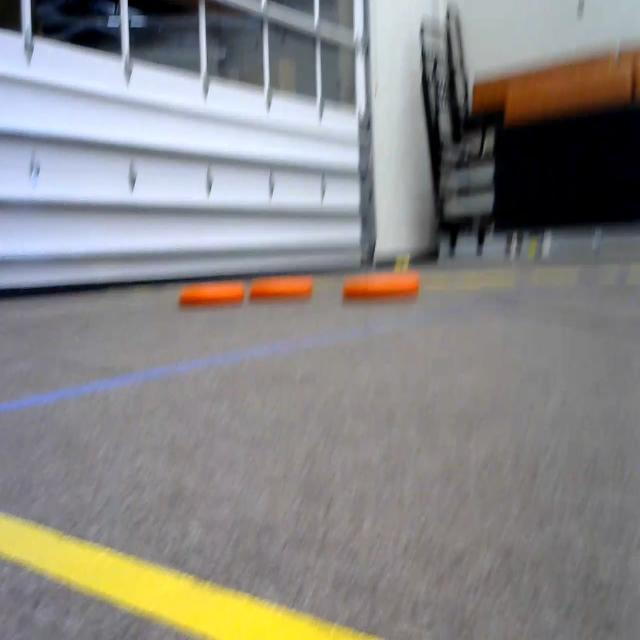note: (340, 264, 422, 306), (179, 268, 247, 313), (248, 268, 321, 309)
